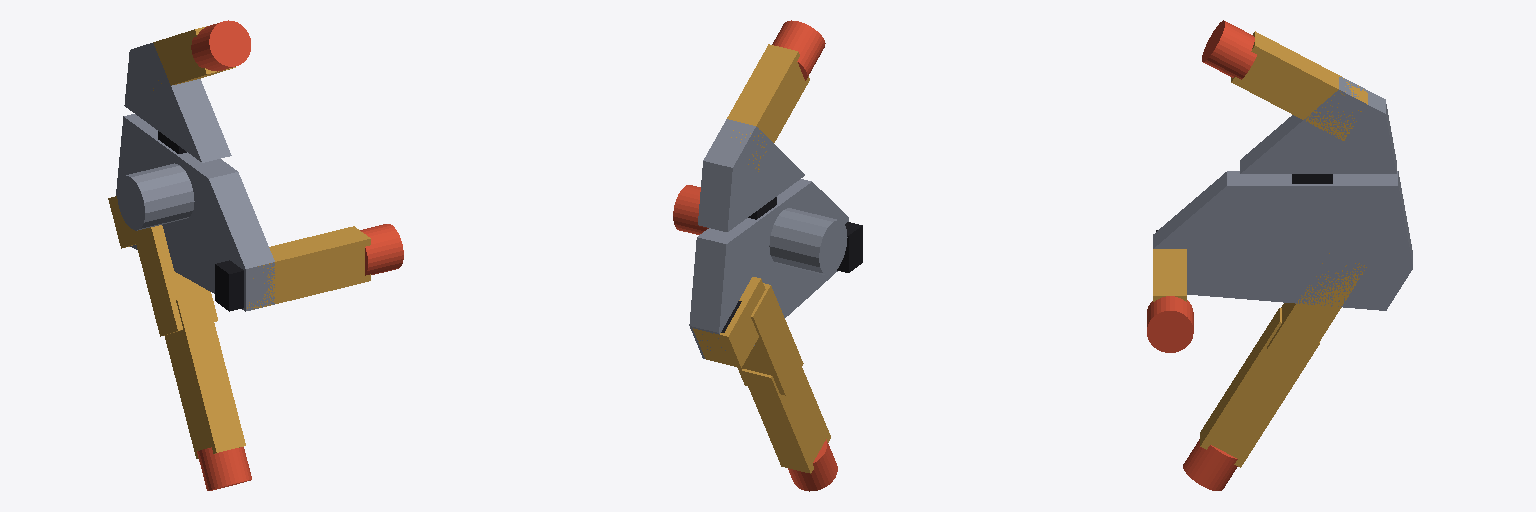
The robot description file, URDF, robot "g0041_c13":
<robot name="g0041_c13">
  <link name="palm">
    <visual name="palm_palm1">
      <origin xyz="0 0 0" rpy="0 0 0" />
      <geometry>
        <mesh filename="palm_palm1.obj" />
      </geometry>
      <material name="palm_palm1_mat">
        <color rgba="0.55 0.57 0.62 1" />
      </material>
    </visual>
    <collision>
      <origin xyz="0 0 0" rpy="0 0 0" />
      <geometry>
        <mesh filename="palm_palm1.obj" />
      </geometry>
    </collision>
    <visual name="palm_mount2">
      <origin xyz="0 0 0" rpy="0 0 0" />
      <geometry>
        <mesh filename="palm_mount2.obj" />
      </geometry>
      <material name="palm_mount2_mat">
        <color rgba="0.55 0.57 0.62 1" />
      </material>
    </visual>
    <collision>
      <origin xyz="0 0 0" rpy="0 0 0" />
      <geometry>
        <mesh filename="palm_mount2.obj" />
      </geometry>
    </collision>
    <visual name="palm_hinge3">
      <origin xyz="0 0.02 0.0225" rpy="-1.57079633 -6.123234e-17 1.57079633" />
      <geometry>
        <box size="0.029 0.034 0.02" />
      </geometry>
      <material name="palm_hinge3_mat">
        <color rgba="0.15 0.15 0.17 1" />
      </material>
    </visual>
    <collision>
      <origin xyz="0 0.02 0.0225" rpy="-1.57079633 -6.123234e-17 1.57079633" />
      <geometry>
        <box size="0.029 0.034 0.02" />
      </geometry>
    </collision>
    <visual name="palm_motor4">
      <origin xyz="-0.007 -0.08 -0.04" rpy="1.57079633 -1.57079633 0" />
      <geometry>
        <box size="0.029 0.034 0.02" />
      </geometry>
      <material name="palm_motor4_mat">
        <color rgba="0.15 0.15 0.17 1" />
      </material>
    </visual>
    <collision>
      <origin xyz="-0.007 -0.08 -0.04" rpy="1.57079633 -1.57079633 0" />
      <geometry>
        <box size="0.029 0.034 0.02" />
      </geometry>
    </collision>
    <visual name="palm_motor5">
      <origin xyz="-0.0045 0.0666996732 -0.0467548095" rpy="1.57079633 -0.523598776 -1.57079633" />
      <geometry>
        <box size="0.029 0.034 0.02" />
      </geometry>
      <material name="palm_motor5_mat">
        <color rgba="0.15 0.15 0.17 1" />
      </material>
    </visual>
    <collision>
      <origin xyz="-0.0045 0.0666996732 -0.0467548095" rpy="1.57079633 -0.523598776 -1.57079633" />
      <geometry>
        <box size="0.029 0.034 0.02" />
      </geometry>
    </collision>
    <inertial>
      <origin xyz="0 0.00497475857 -0.0218498863" rpy="-1.57079633 -0.0496156489 1.57079633" />
      <mass value="0.612661921" />
      <inertia ixx="0.000418383674" ixy="0" ixz="0" iyy="0.00142892194" iyz="0" izz="0.00178849007" />
    </inertial>
  </link>
  <link name="palm0">
    <visual name="palm0_palm1">
      <origin xyz="0 0 0" rpy="0 0 0" />
      <geometry>
        <mesh filename="palm0_palm1.obj" />
      </geometry>
      <material name="palm0_palm1_mat">
        <color rgba="0.55 0.57 0.62 1" />
      </material>
    </visual>
    <collision>
      <origin xyz="0 0 0" rpy="0 0 0" />
      <geometry>
        <mesh filename="palm0_palm1.obj" />
      </geometry>
    </collision>
    <visual name="palm0_motor2">
      <origin xyz="0 0.0264951905 0.04625" rpy="-1.57079633 -1.04719755 1.57079633" />
      <geometry>
        <box size="0.029 0.034 0.02" />
      </geometry>
      <material name="palm0_motor2_mat">
        <color rgba="0.15 0.15 0.17 1" />
      </material>
    </visual>
    <collision>
      <origin xyz="0 0.0264951905 0.04625" rpy="-1.57079633 -1.04719755 1.57079633" />
      <geometry>
        <box size="0.029 0.034 0.02" />
      </geometry>
    </collision>
    <inertial>
      <origin xyz="0 0.0141795081 0.028728723" rpy="1.57079633 -0.268581346 1.57079633" />
      <mass value="0.180906295" />
      <inertia ixx="5.16750845e-05" ixy="0" ixz="0" iyy="0.000122356297" iyz="0" izz="0.000156664377" />
    </inertial>
  </link>
  <link name="f0_link0">
    <visual name="f0_link0_link1">
      <origin xyz="0.03875 6.9388939e-18 0" rpy="0 -3.00807789e-49 0" />
      <geometry>
        <box size="0.1015 0.033 0.024" />
      </geometry>
      <material name="f0_link0_link1_mat">
        <color rgba="0.80 0.62 0.30 1" />
      </material>
    </visual>
    <collision>
      <origin xyz="0.03875 6.9388939e-18 0" rpy="0 -3.00807789e-49 0" />
      <geometry>
        <box size="0.1015 0.033 0.024" />
      </geometry>
    </collision>
    <inertial>
      <origin xyz="0.03875 0 0" rpy="0 0 0" />
      <mass value="0.140679" />
      <inertia ixx="1.95192113e-05" ixy="0" ixz="0" iyy="0.000127528444" iyz="0" izz="0.000133542472" />
    </inertial>
  </link>
  <link name="f0_link1">
    <visual name="f0_link1_link1">
      <origin xyz="0.019 0 0" rpy="-1.57079633 -0 -1.57079633" />
      <geometry>
        <cylinder radius="0.0165" length="0.029" />
      </geometry>
      <material name="f0_link1_link1_mat">
        <color rgba="0.85 0.35 0.25 1" />
      </material>
    </visual>
    <collision>
      <origin xyz="0.019 0 0" rpy="-1.57079633 -0 -1.57079633" />
      <geometry>
        <cylinder radius="0.0165" length="0.029" />
      </geometry>
    </collision>
    <inertial>
      <origin xyz="0.019 0 0" rpy="0 0 0" />
      <mass value="0.0763354" />
      <inertia ixx="9.49466441e-06" ixy="0" ixz="0" iyy="2.24143997e-05" iyz="0" izz="2.24143997e-05" />
    </inertial>
  </link>
  <link name="f1_link0">
    <visual name="f1_link0_link1">
      <origin xyz="-0.00625 0 -0.0165" rpy="0 4.06369831e-17 0" />
      <geometry>
        <box size="0.0365 0.029 0.053" />
      </geometry>
      <material name="f1_link0_link1_mat">
        <color rgba="0.80 0.62 0.30 1" />
      </material>
    </visual>
    <collision>
      <origin xyz="-0.00625 0 -0.0165" rpy="0 4.06369831e-17 0" />
      <geometry>
        <box size="0.0365 0.029 0.053" />
      </geometry>
    </collision>
    <inertial>
      <origin xyz="-0.00625 0 -0.0165" rpy="0 0 0" />
      <mass value="0.098175875" />
      <inertia ixx="2.98618286e-05" ixy="0" ixz="0" iyy="3.38809035e-05" iyz="0" izz="1.778006e-05" />
    </inertial>
  </link>
  <link name="f1_link1">
    <visual name="f1_link1_link1">
      <origin xyz="0.03375 0 6.9388939e-18" rpy="0 4.06369831e-17 0" />
      <geometry>
        <box size="0.0915 0.033 0.029" />
      </geometry>
      <material name="f1_link1_link1_mat">
        <color rgba="0.80 0.62 0.30 1" />
      </material>
    </visual>
    <collision>
      <origin xyz="0.03375 0 6.9388939e-18" rpy="0 4.06369831e-17 0" />
      <geometry>
        <box size="0.0915 0.033 0.029" />
      </geometry>
    </collision>
    <inertial>
      <origin xyz="0.03375 0 0" rpy="0 0 0" />
      <mass value="0.153239625" />
      <inertia ixx="2.46460397e-05" ixy="0" ixz="0" iyy="0.000117652915" iyz="0" izz="0.000120819867" />
    </inertial>
  </link>
  <link name="f1_link2">
    <visual name="f1_link2_link1">
      <origin xyz="0.04375 0 -6.9388939e-18" rpy="0 4.06369831e-17 0" />
      <geometry>
        <box size="0.1115 0.024 0.033" />
      </geometry>
      <material name="f1_link2_link1_mat">
        <color rgba="0.80 0.62 0.30 1" />
      </material>
    </visual>
    <collision>
      <origin xyz="0.04375 0 -6.9388939e-18" rpy="0 4.06369831e-17 0" />
      <geometry>
        <box size="0.1115 0.024 0.033" />
      </geometry>
    </collision>
    <inertial>
      <origin xyz="0.04375 0 0" rpy="0 0 0" />
      <mass value="0.154539" />
      <inertia ixx="2.14422863e-05" ixy="0" ixz="0" iyy="0.000174130038" iyz="0" izz="0.000167523496" />
    </inertial>
  </link>
  <link name="f1_link3">
    <visual name="f1_link3_link1">
      <origin xyz="0.019 0 -1.73472348e-17" rpy="-1.57079633 -0 -1.57079633" />
      <geometry>
        <cylinder radius="0.0165" length="0.029" />
      </geometry>
      <material name="f1_link3_link1_mat">
        <color rgba="0.85 0.35 0.25 1" />
      </material>
    </visual>
    <collision>
      <origin xyz="0.019 0 -1.73472348e-17" rpy="-1.57079633 -0 -1.57079633" />
      <geometry>
        <cylinder radius="0.0165" length="0.029" />
      </geometry>
    </collision>
    <inertial>
      <origin xyz="0.019 0 0" rpy="0 0 0" />
      <mass value="0.0763354" />
      <inertia ixx="9.49466441e-06" ixy="0" ixz="0" iyy="2.24143997e-05" iyz="0" izz="2.24143997e-05" />
    </inertial>
  </link>
  <link name="f2_link0">
    <visual name="f2_link0_link1">
      <origin xyz="0.03375 0 0" rpy="0 7.03853194e-17 0" />
      <geometry>
        <box size="0.0915 0.024 0.033" />
      </geometry>
      <material name="f2_link0_link1_mat">
        <color rgba="0.80 0.62 0.30 1" />
      </material>
    </visual>
    <collision>
      <origin xyz="0.03375 0 0" rpy="0 7.03853194e-17 0" />
      <geometry>
        <box size="0.0915 0.024 0.033" />
      </geometry>
    </collision>
    <inertial>
      <origin xyz="0.03375 0 0" rpy="0 0 0" />
      <mass value="0.126819" />
      <inertia ixx="1.75961363e-05" ixy="0" ixz="0" iyy="9.99888553e-05" iyz="0" izz="9.45673431e-05" />
    </inertial>
  </link>
  <link name="f2_link1">
    <visual name="f2_link1_link1">
      <origin xyz="0.019 0 -6.9388939e-18" rpy="-1.57079633 -0 -1.57079633" />
      <geometry>
        <cylinder radius="0.0165" length="0.029" />
      </geometry>
      <material name="f2_link1_link1_mat">
        <color rgba="0.85 0.35 0.25 1" />
      </material>
    </visual>
    <collision>
      <origin xyz="0.019 0 -6.9388939e-18" rpy="-1.57079633 -0 -1.57079633" />
      <geometry>
        <cylinder radius="0.0165" length="0.029" />
      </geometry>
    </collision>
    <inertial>
      <origin xyz="0.019 0 0" rpy="0 0 0" />
      <mass value="0.0763354" />
      <inertia ixx="9.49466441e-06" ixy="0" ixz="0" iyy="2.24143997e-05" iyz="0" izz="2.24143997e-05" />
    </inertial>
  </link>
  <joint name="palm0_joint" type="revolute">
    <parent link="palm" />
    <child link="palm0" />
    <origin xyz="0 0.02 0.03" rpy="0 0 0" />
    <axis xyz="0 1 6.123234e-17" />
    <limit effort="0.5" lower="-0.523598776" upper="0.523598776" velocity="5" />
    <dynamics damping="0.0775033" friction="0" />
  </joint>
  <joint name="f0_j0" type="revolute">
    <parent link="palm" />
    <child link="f0_link0" />
    <origin xyz="0.0005 -0.08 -0.04" rpy="1.57079633 6.123234e-17 7.49879891e-33" />
    <axis xyz="0 1 6.123234e-17" />
    <limit effort="0.5" lower="-0.523598776" upper="0.523598776" velocity="5" />
    <dynamics damping="0.0775033" friction="0" />
  </joint>
  <joint name="f0_j1" type="revolute">
    <parent link="f0_link0" />
    <child link="f0_link1" />
    <origin xyz="0.08 0 0" rpy="0 0 0" />
    <axis xyz="0 1 6.123234e-17" />
    <limit effort="0.5" lower="-0.523598776" upper="0.523598776" velocity="5" />
    <dynamics damping="0.0775033" friction="0" />
  </joint>
  <joint name="f1_j0" type="revolute">
    <parent link="palm" />
    <child link="f1_link0" />
    <origin xyz="-0.0045 0.04 -0.04" rpy="0 1.04719755 -1.57079633" />
    <axis xyz="0 0 1" />
    <limit effort="0.5" lower="-0.523598776" upper="1.57079633" velocity="5" />
    <dynamics damping="0.0775033" friction="0" />
  </joint>
  <joint name="f1_j1" type="revolute">
    <parent link="f1_link0" />
    <child link="f1_link1" />
    <origin xyz="0 0 0" rpy="0 0 0" />
    <axis xyz="0 1 6.123234e-17" />
    <limit effort="0.5" lower="-0.523598776" upper="0.523598776" velocity="5" />
    <dynamics damping="0.0775033" friction="0" />
  </joint>
  <joint name="f1_j2" type="revolute">
    <parent link="f1_link1" />
    <child link="f1_link2" />
    <origin xyz="0.07 0 0" rpy="0 0 0" />
    <axis xyz="0 0 1" />
    <limit effort="0.5" lower="-0.523598776" upper="1.57079633" velocity="5" />
    <dynamics damping="0.0775033" friction="0" />
  </joint>
  <joint name="f1_j3" type="revolute">
    <parent link="f1_link2" />
    <child link="f1_link3" />
    <origin xyz="0.09 0 0" rpy="0 0 0" />
    <axis xyz="0 0 1" />
    <limit effort="0.5" lower="-0.523598776" upper="1.57079633" velocity="5" />
    <dynamics damping="0.0775033" friction="0" />
  </joint>
  <joint name="f2_j0" type="revolute">
    <parent link="palm0" />
    <child link="f2_link0" />
    <origin xyz="0 0.02 0.05" rpy="-0 -0.523598776 -1.57079633" />
    <axis xyz="0 0 1" />
    <limit effort="0.5" lower="-0.523598776" upper="1.57079633" velocity="5" />
    <dynamics damping="0.0775033" friction="0" />
  </joint>
  <joint name="f2_j1" type="revolute">
    <parent link="f2_link0" />
    <child link="f2_link1" />
    <origin xyz="0.07 0 0" rpy="0 0 0" />
    <axis xyz="0 0 1" />
    <limit effort="0.5" lower="-0.523598776" upper="1.57079633" velocity="5" />
    <dynamics damping="0.0775033" friction="0" />
  </joint>
</robot>

--- Facts derived from the render (not from the file) ---
3 views of the same robot in one strip: view 1: azimuth 30°, elevation 25°; view 2: azimuth 150°, elevation 25°; view 3: azimuth 270°, elevation 25° (orthographic).
Robot: g0041_c13 — 10 links, 9 joints (9 revolute); root link palm; default pose: every joint at zero.
Links seen in each view (by area): view 1: palm, f1_link2, palm0, f0_link0, f1_link1, f2_link1, f2_link0, f1_link3, f0_link1, f1_link0; view 2: palm, palm0, f1_link2, f2_link0, f1_link1, f1_link0, f2_link1, f1_link3, f0_link1; view 3: palm, palm0, f1_link2, f2_link0, f1_link1, f0_link1, f2_link1, f1_link3, f0_link0.
Link boxes in pixels (box(x1,y1,x2,y2)): palm: box(116, 114, 274, 311); f1_link2: box(165, 293, 245, 458); palm0: box(124, 43, 231, 162); f0_link0: box(247, 226, 370, 309); f1_link1: box(132, 225, 217, 336); f2_link1: box(191, 20, 250, 71); f2_link0: box(153, 26, 235, 90); f1_link3: box(197, 447, 251, 490); f0_link1: box(360, 224, 403, 275); f1_link0: box(108, 196, 135, 248); palm: box(689, 179, 862, 358); palm0: box(698, 119, 804, 231); f1_link2: box(742, 367, 830, 473); f2_link0: box(727, 44, 809, 171); f1_link1: box(737, 283, 803, 395); f1_link0: box(693, 277, 765, 367); f2_link1: box(772, 20, 825, 80); f1_link3: box(788, 439, 837, 491); f0_link1: box(673, 185, 708, 234); palm: box(1153, 171, 1412, 310); palm0: box(1240, 77, 1396, 173); f1_link2: box(1200, 308, 1319, 467); f2_link0: box(1231, 31, 1367, 140); f1_link1: box(1267, 253, 1366, 368); f0_link1: box(1147, 296, 1193, 352); f2_link1: box(1202, 20, 1256, 79); f1_link3: box(1183, 439, 1237, 490); f0_link0: box(1153, 249, 1186, 301).
Size in the robot's own frame: 0.166 by 0.187 by 0.3619 metres.
3 mesh visuals loaded from 3 distinct referenced files (3 OBJ).
